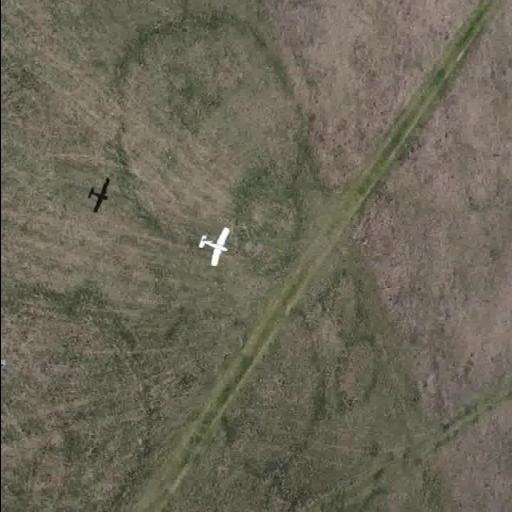uav: (190, 222, 236, 268)
